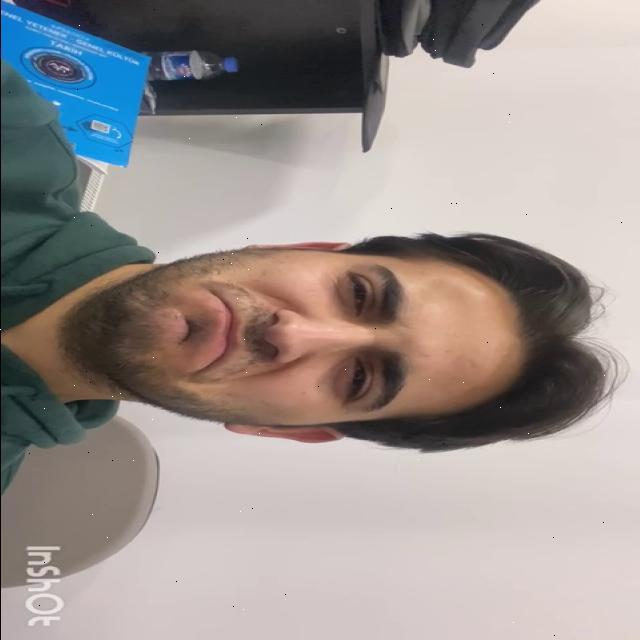sad: (106, 242, 532, 441)
